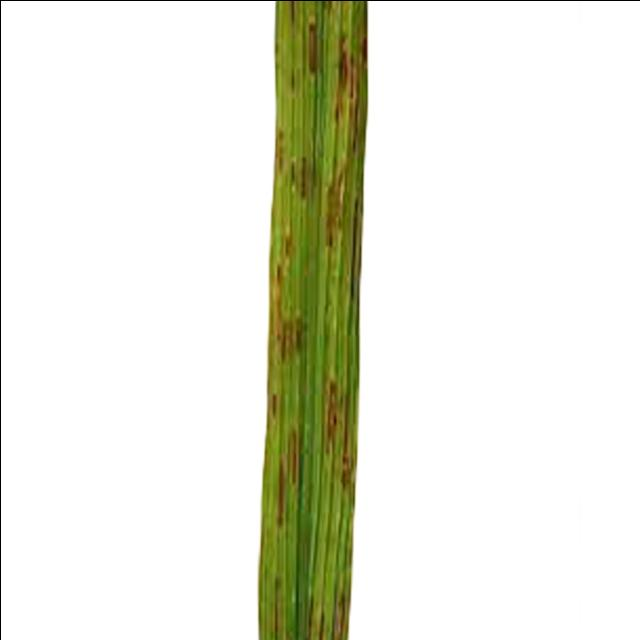Brown spot: (204, 0, 382, 640)
